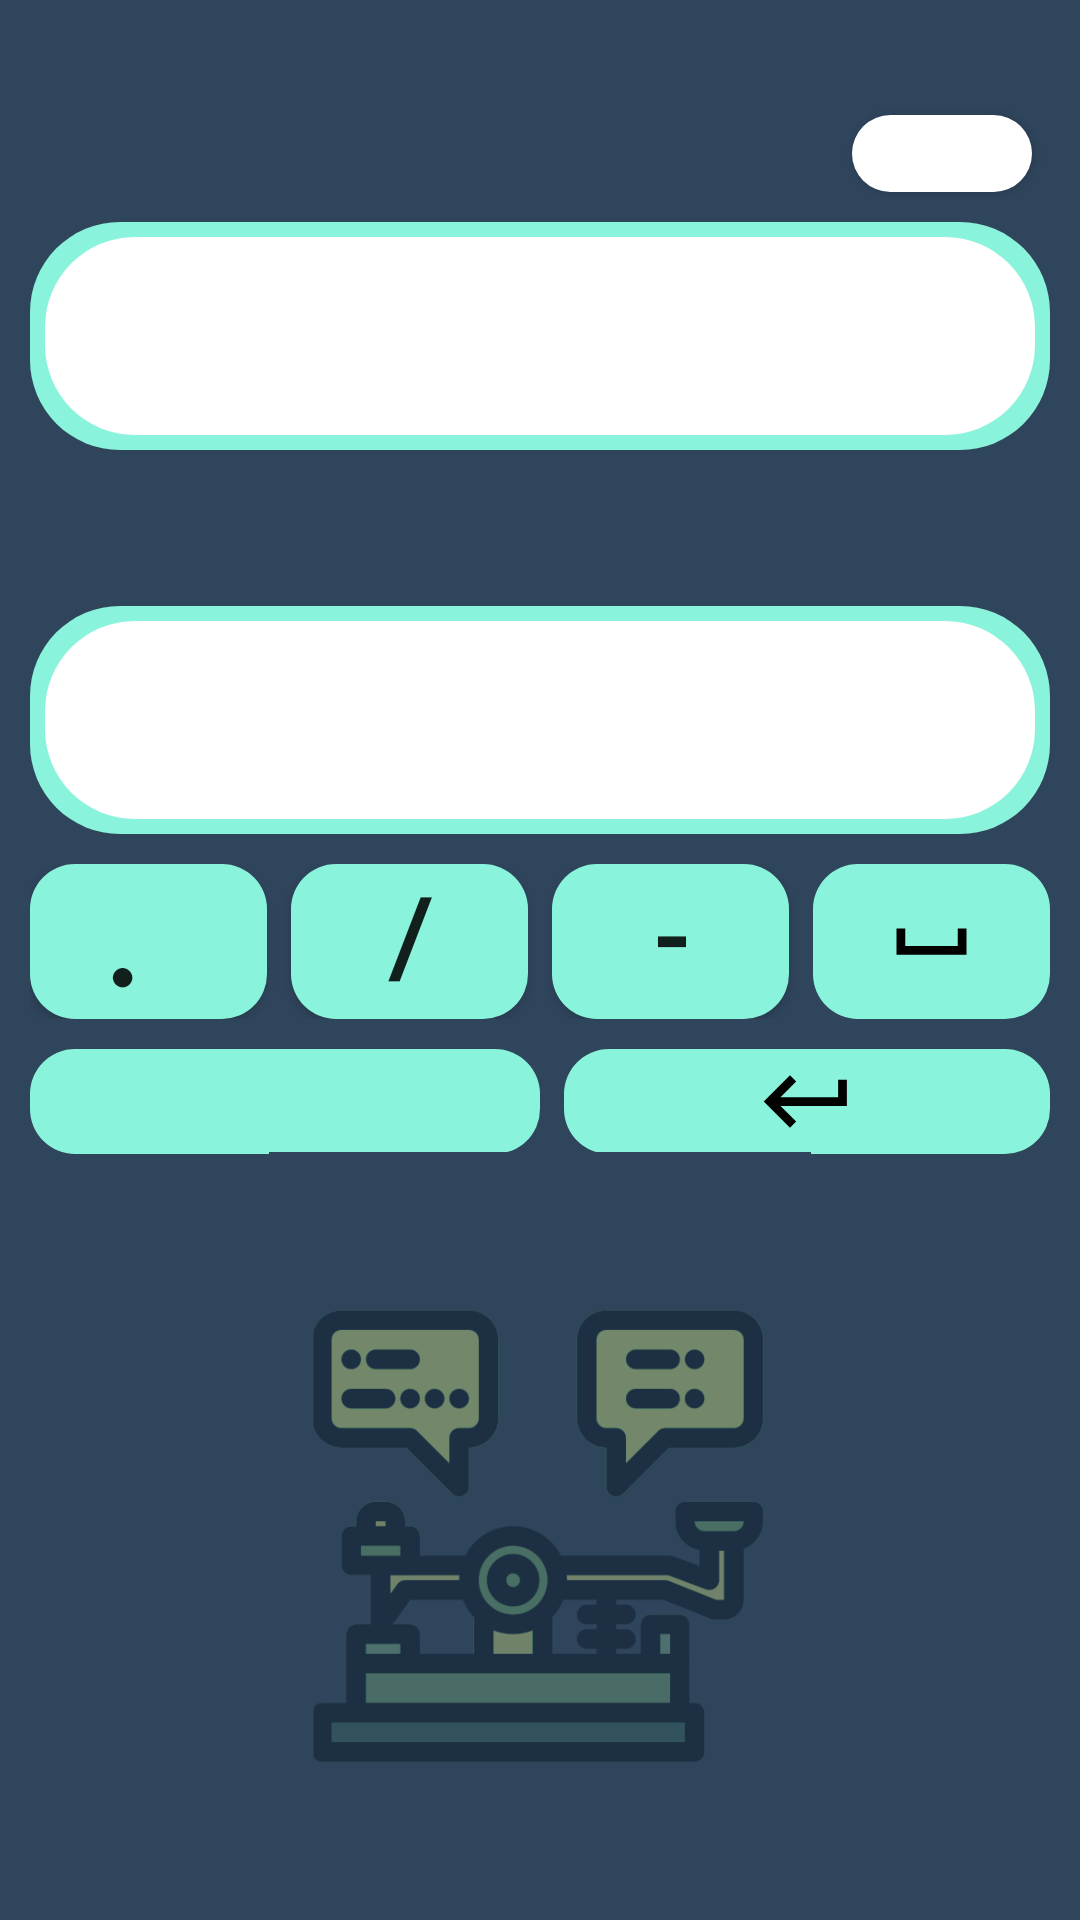

Icons on this 1080w x 1920h Android screen, each with the point to tap as (x,y):
space bar: (931,941)
